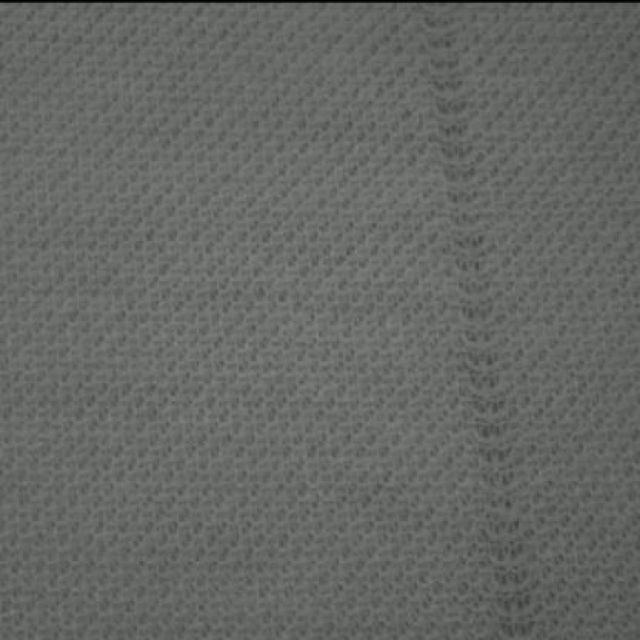Line: (425, 7, 538, 640)
